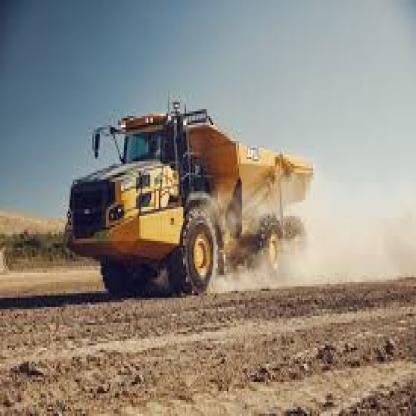dump_truck: (59, 89, 346, 314)
